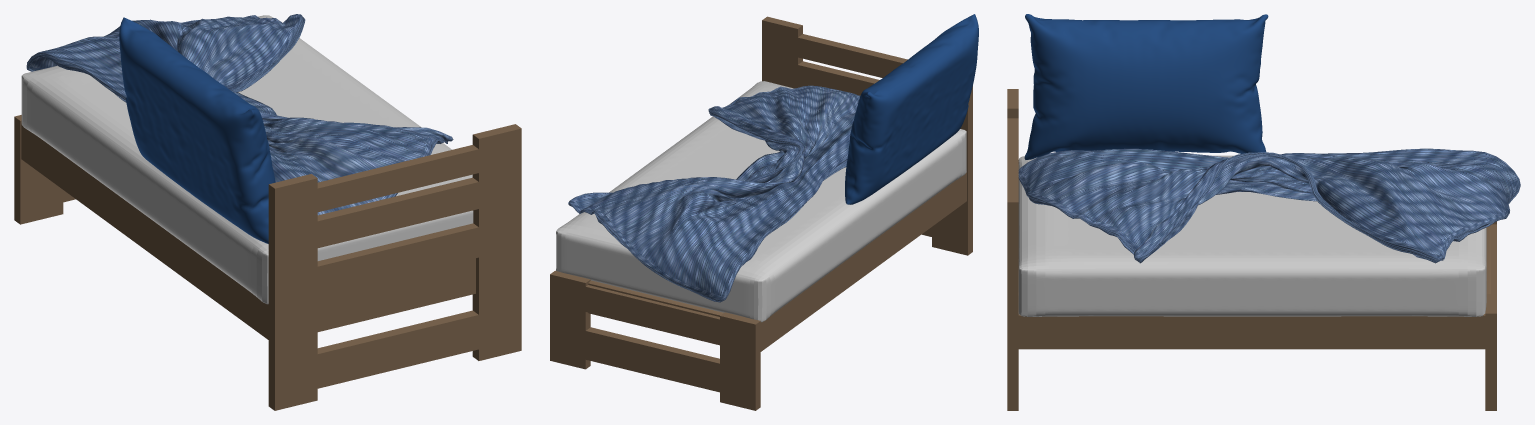
The model's file is Bed with texture.fbx.
3 renders of one model, left to right at view 1: azimuth 30°, elevation 25°; view 2: azimuth 150°, elevation 25°; view 3: azimuth 270°, elevation 25°, orthographic. The views are drawn at different scales.
Visible parts, largest first — view 1: Bed_01, Mattress, Cube, Cushion_denim; view 2: Bed_01, Cube, Mattress, Cushion_denim; view 3: Mattress, Cube, Cushion_denim, Bed_01.
Boxes of the visible parts, x1,y1,x2,y2 form: Bed_01: (14, 115, 521, 410); Mattress: (21, 15, 473, 304); Cube: (26, 14, 453, 215); Cushion_denim: (119, 17, 275, 243); Bed_01: (550, 16, 972, 410); Cube: (568, 85, 860, 302); Mattress: (556, 81, 966, 322); Cushion_denim: (845, 14, 978, 204); Mattress: (1018, 155, 1486, 316); Cube: (1018, 148, 1520, 263); Cushion_denim: (1024, 14, 1268, 159); Bed_01: (1007, 89, 1496, 410).
Size of the model in its own units: 93.34 by 92.42 by 155.
